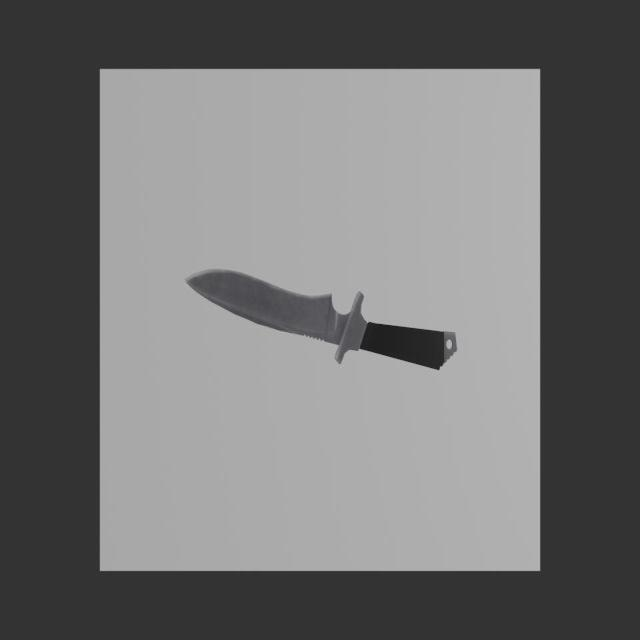knife: (360, 322, 457, 371)
